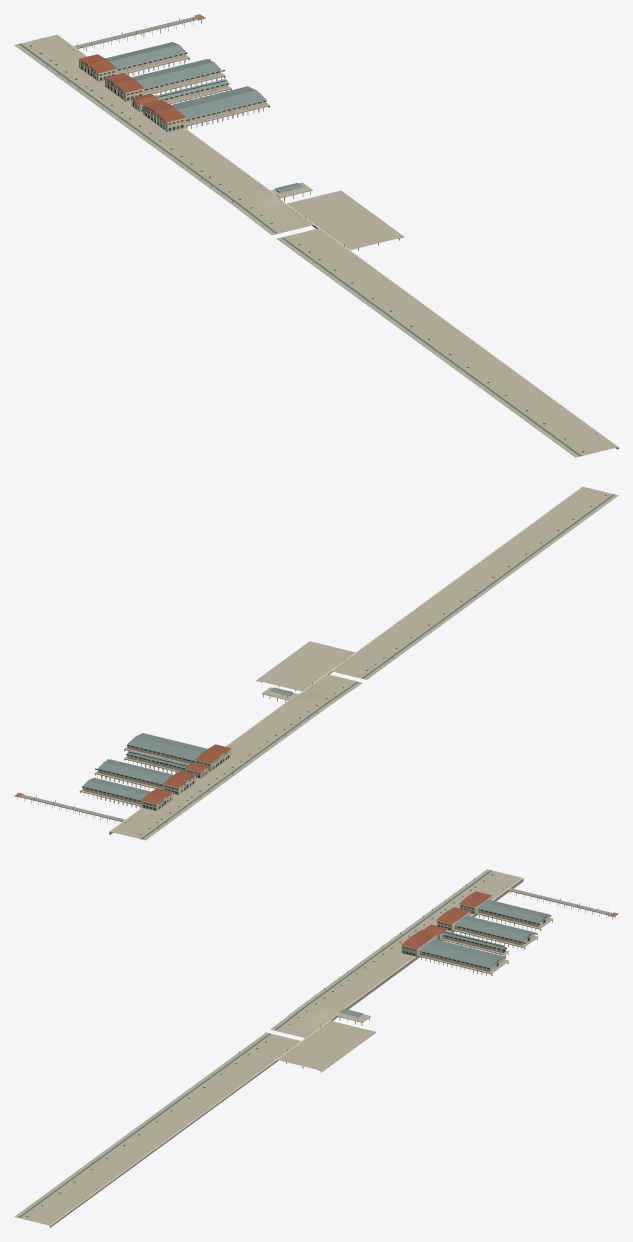
File: embarcadero-lod.glb
3 renders of one model, top to bottom at view 1: azimuth 30°, elevation 25°; view 2: azimuth 150°, elevation 25°; view 3: azimuth 330°, elevation 25°, orthographic. The views are drawn at different scales.
Visible parts, largest first — view 1: Ferry plaza foundation | jointed waterfront granite pavers, Quay 4 | jointed waterfront granite pavers, Quay 2 | jointed waterfront granite pavers, Quay 3 | jointed waterfront granite pavers, Quay South 1 | jointed waterfront granite pavers, Quay South 2 | jointed waterfront granite pavers, Quay South 3 | jointed waterfront granite pavers, Quay South 4 | jointed waterfront granite pavers, Quay South 6 | jointed waterfront granite pavers, Quay South 5 | jointed waterfront granite pavers, Pier 1 shed and deck | zinc shed roof, Quay 1 | jointed waterfront granite pavers (+8 smaller); view 2: Ferry plaza foundation | jointed waterfront granite pavers, Quay 4 | jointed waterfront granite pavers, Quay South 3 | jointed waterfront granite pavers, Quay South 6 | jointed waterfront granite pavers, Quay South 2 | jointed waterfront granite pavers, Quay South 1 | jointed waterfront granite pavers, Quay South 4 | jointed waterfront granite pavers, Quay South 5 | jointed waterfront granite pavers, Quay 3 | jointed waterfront granite pavers, Quay 2 | jointed waterfront granite pavers, Pier 1 shed and deck | zinc shed roof, Quay 1 | jointed waterfront granite pavers (+7 smaller); view 3: Ferry plaza foundation | jointed waterfront granite pavers, Quay 2 | jointed waterfront granite pavers, Quay 4 | jointed waterfront granite pavers, Pier 1 shed and deck | zinc shed roof, Quay South 1 | jointed waterfront granite pavers, Quay South 4 | jointed waterfront granite pavers, Quay 3 | jointed waterfront granite pavers, Quay South 2 | jointed waterfront granite pavers, Quay South 5 | jointed waterfront granite pavers, Quay South 6 | jointed waterfront granite pavers, Quay South 3 | jointed waterfront granite pavers, Quay 1 | jointed waterfront granite pavers (+6 smaller).
Boxes of the visible parts, x1=… form: Ferry plaza foundation | jointed waterfront granite pavers: x1=287, y1=190, x2=404, y2=249; Quay 4 | jointed waterfront granite pavers: x1=153, y1=136, x2=235, y2=176; Quay 2 | jointed waterfront granite pavers: x1=233, y1=195, x2=315, y2=235; Quay 3 | jointed waterfront granite pavers: x1=195, y1=166, x2=274, y2=204; Quay South 1 | jointed waterfront granite pavers: x1=537, y1=419, x2=617, y2=457; Quay South 2 | jointed waterfront granite pavers: x1=499, y1=391, x2=578, y2=429; Quay South 3 | jointed waterfront granite pavers: x1=461, y1=363, x2=540, y2=401; Quay South 4 | jointed waterfront granite pavers: x1=422, y1=335, x2=501, y2=373; Quay South 6 | jointed waterfront granite pavers: x1=346, y1=279, x2=425, y2=316; Quay South 5 | jointed waterfront granite pavers: x1=384, y1=307, x2=463, y2=344; Pier 1 shed and deck | zinc shed roof: x1=171, y1=86, x2=266, y2=119; Quay 1 | jointed waterfront granite pavers: x1=276, y1=227, x2=354, y2=264; Ferry plaza foundation | jointed waterfront granite pavers: x1=256, y1=641, x2=354, y2=691; Quay 4 | jointed waterfront granite pavers: x1=227, y1=720, x2=297, y2=754; Quay South 3 | jointed waterfront granite pavers: x1=486, y1=534, x2=553, y2=566; Quay South 6 | jointed waterfront granite pavers: x1=389, y1=605, x2=456, y2=637; Quay South 2 | jointed waterfront granite pavers: x1=519, y1=510, x2=585, y2=542; Quay South 1 | jointed waterfront granite pavers: x1=551, y1=487, x2=618, y2=518; Quay South 4 | jointed waterfront granite pavers: x1=454, y1=558, x2=521, y2=589; Quay South 5 | jointed waterfront granite pavers: x1=422, y1=581, x2=488, y2=613; Quay 3 | jointed waterfront granite pavers: x1=262, y1=697, x2=329, y2=728; Quay 2 | jointed waterfront granite pavers: x1=295, y1=673, x2=362, y2=705; Pier 1 shed and deck | zinc shed roof: x1=127, y1=733, x2=207, y2=760; Quay 1 | jointed waterfront granite pavers: x1=330, y1=649, x2=396, y2=679; Ferry plaza foundation | jointed waterfront granite pavers: x1=278, y1=1021, x2=376, y2=1070; Quay 2 | jointed waterfront granite pavers: x1=270, y1=1004, x2=337, y2=1038; Quay 4 | jointed waterfront granite pavers: x1=336, y1=955, x2=405, y2=988; Pier 1 shed and deck | zinc shed roof: x1=420, y1=939, x2=505, y2=967; Quay South 1 | jointed waterfront granite pavers: x1=14, y1=1193, x2=80, y2=1225; Quay South 4 | jointed waterfront granite pavers: x1=111, y1=1122, x2=178, y2=1154; Quay 3 | jointed waterfront granite pavers: x1=303, y1=980, x2=370, y2=1012; Quay South 2 | jointed waterfront granite pavers: x1=47, y1=1169, x2=113, y2=1201; Quay South 5 | jointed waterfront granite pavers: x1=144, y1=1098, x2=210, y2=1130; Quay South 6 | jointed waterfront granite pavers: x1=176, y1=1075, x2=243, y2=1106; Quay South 3 | jointed waterfront granite pavers: x1=79, y1=1146, x2=146, y2=1177; Quay 1 | jointed waterfront granite pavers: x1=236, y1=1032, x2=300, y2=1063.
Bounding box in the file's own units: 335 × 31.48 × 1900.
16 materials, 1 textured.
